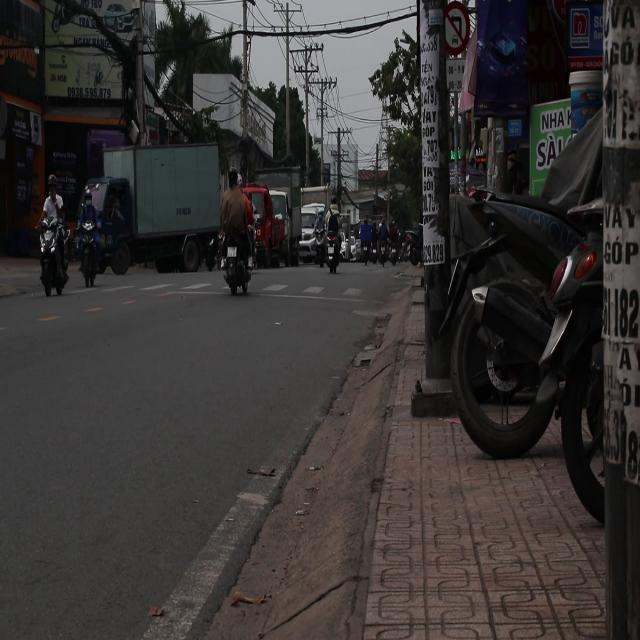motorbike: (31, 191, 74, 312), (221, 196, 258, 308), (73, 210, 117, 298), (322, 224, 347, 281)
truck: (94, 140, 224, 275), (242, 186, 291, 266), (296, 205, 326, 264)
